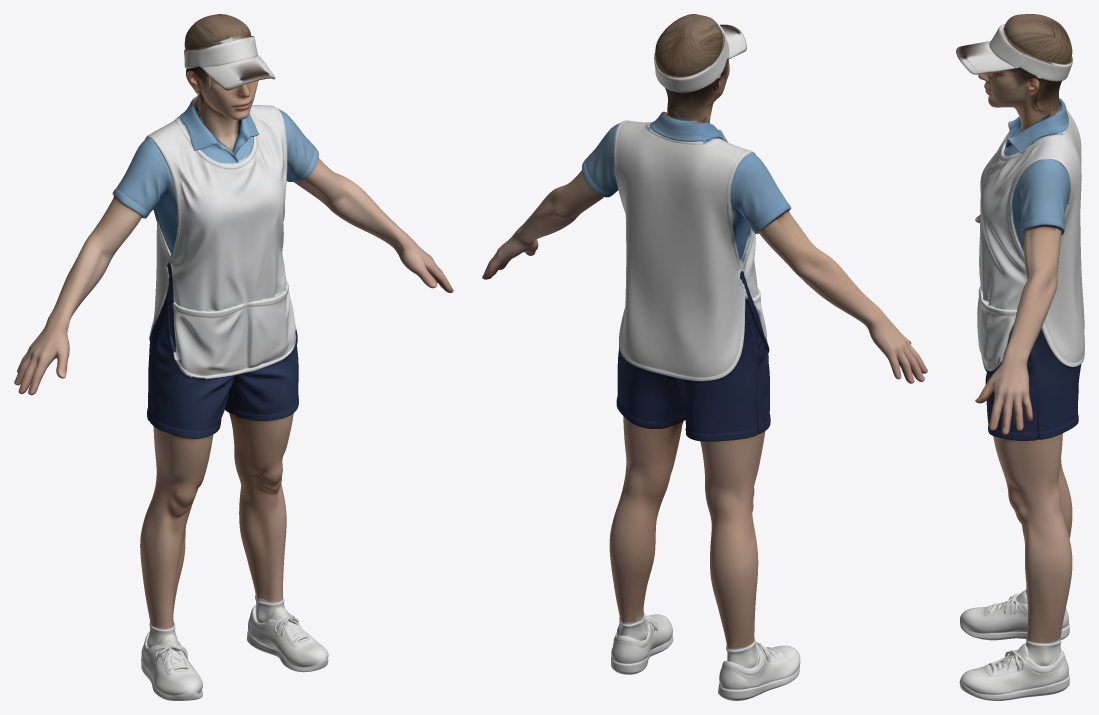
3 renders of one model, left to right at view 1: azimuth 30°, elevation 25°; view 2: azimuth 150°, elevation 25°; view 3: azimuth 270°, elevation 25°, orthographic.
Visible parts, largest first — view 1: node_0; view 2: node_0; view 3: node_0.
Boxes of the visible parts, bbox=[...] form: node_0: bbox=[14, 14, 453, 700]; node_0: bbox=[482, 14, 927, 700]; node_0: bbox=[956, 14, 1084, 700].
Bounding box in the file's own units: 26561 × 38142 × 6896.
1 material, 1 textured.
